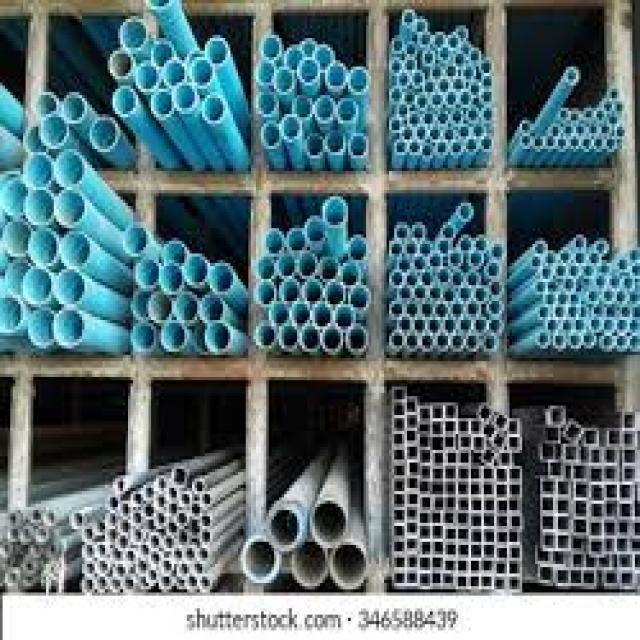pipe: (332, 542, 366, 587), (294, 540, 326, 586), (268, 506, 300, 549), (312, 499, 344, 541), (245, 539, 277, 580), (55, 269, 85, 304), (55, 308, 82, 345), (55, 152, 83, 187), (41, 113, 69, 147), (30, 228, 57, 262), (90, 118, 117, 150), (26, 190, 53, 222), (58, 190, 84, 223), (4, 221, 29, 254), (25, 155, 52, 185), (25, 268, 50, 300), (3, 180, 27, 213), (205, 323, 230, 354), (30, 312, 53, 345), (6, 258, 29, 291), (161, 322, 187, 351), (63, 234, 87, 265), (199, 293, 224, 322), (130, 323, 156, 350), (121, 22, 146, 50), (31, 90, 56, 118), (25, 123, 48, 152), (136, 256, 159, 285), (0, 295, 21, 326), (203, 95, 225, 124), (211, 263, 233, 291), (149, 294, 171, 322), (163, 239, 186, 265), (151, 40, 172, 67), (192, 59, 213, 86), (64, 92, 85, 119), (326, 198, 347, 225), (136, 63, 157, 89), (175, 295, 196, 321), (114, 89, 134, 116), (186, 256, 206, 283), (112, 51, 133, 76), (175, 86, 197, 109), (163, 62, 184, 86), (256, 280, 277, 304), (133, 290, 149, 319), (208, 37, 229, 59), (281, 115, 301, 138), (310, 304, 330, 327), (163, 265, 180, 292), (258, 90, 277, 114), (350, 69, 369, 93), (327, 62, 345, 87), (299, 59, 318, 82), (290, 302, 309, 325), (154, 89, 170, 116), (128, 227, 146, 251), (300, 326, 318, 350), (323, 327, 342, 349), (275, 69, 294, 90), (281, 325, 299, 347), (347, 329, 365, 351), (351, 287, 369, 309), (326, 282, 344, 304), (256, 59, 273, 82), (336, 101, 356, 120), (258, 324, 277, 344), (341, 262, 360, 282), (314, 96, 332, 117), (304, 280, 322, 301), (281, 280, 299, 301), (263, 123, 280, 145), (266, 229, 282, 251), (564, 420, 580, 442), (336, 307, 353, 327), (307, 133, 323, 154), (315, 46, 330, 68), (350, 134, 367, 153), (320, 258, 337, 277), (299, 255, 316, 274), (307, 218, 323, 238), (477, 403, 494, 421), (264, 36, 280, 55), (286, 48, 302, 67), (271, 302, 287, 321), (351, 238, 365, 259), (280, 254, 294, 275), (289, 231, 305, 249), (294, 97, 309, 116), (259, 256, 274, 275), (329, 132, 343, 151), (482, 446, 496, 464), (174, 466, 188, 484), (71, 512, 86, 528), (395, 223, 409, 239), (389, 117, 402, 134), (412, 224, 425, 241), (108, 495, 120, 513), (389, 302, 403, 317), (392, 38, 405, 54), (390, 241, 403, 257), (428, 285, 441, 301), (405, 302, 418, 318), (493, 413, 506, 429), (493, 432, 506, 448), (550, 408, 562, 425), (435, 302, 447, 319), (451, 302, 463, 319), (406, 333, 418, 350), (443, 224, 456, 239), (398, 287, 411, 302), (458, 286, 471, 301), (465, 302, 478, 317), (444, 318, 457, 333), (474, 318, 487, 333), (436, 333, 449, 348), (483, 422, 496, 437), (490, 244, 502, 260), (420, 302, 432, 318), (421, 334, 433, 350), (569, 332, 581, 348), (583, 331, 595, 347), (303, 40, 314, 57), (431, 66, 442, 83), (391, 333, 402, 350), (433, 33, 446, 47), (390, 272, 403, 286), (445, 65, 457, 80), (460, 204, 472, 219), (460, 238, 472, 253), (476, 237, 488, 252), (438, 269, 450, 284), (466, 271, 478, 286), (459, 318, 471, 333), (484, 334, 496, 349), (538, 331, 549, 347), (487, 263, 500, 276), (394, 556, 406, 570), (437, 110, 449, 124), (450, 252, 462, 266), (471, 252, 483, 266), (414, 317, 426, 331), (452, 335, 464, 349), (482, 107, 493, 122), (443, 127, 454, 142), (520, 135, 531, 150), (398, 258, 409, 273), (414, 285, 425, 300), (474, 287, 485, 302), (489, 318, 500, 333), (574, 236, 585, 251), (610, 273, 621, 288), (84, 577, 95, 592), (116, 477, 126, 493), (470, 546, 483, 558), (605, 574, 618, 586), (606, 503, 618, 516), (566, 68, 578, 81), (406, 242, 418, 255), (438, 240, 450, 253), (595, 241, 607, 254), (601, 335, 613, 348), (199, 576, 211, 589), (37, 527, 49, 540), (406, 271, 417, 285), (421, 271, 432, 285), (490, 282, 501, 296), (443, 288, 454, 302), (428, 318, 439, 332), (535, 241, 546, 255), (589, 251, 600, 265), (568, 264, 579, 278), (617, 335, 628, 349), (132, 528, 143, 542), (48, 541, 59, 555), (413, 72, 423, 87), (452, 141, 462, 156), (628, 248, 638, 263), (554, 334, 564, 349), (121, 503, 131, 518), (393, 540, 405, 552), (444, 408, 456, 420), (444, 558, 456, 570), (496, 516, 508, 528), (604, 450, 616, 462), (577, 484, 589, 496), (574, 504, 586, 516), (573, 520, 585, 532), (619, 554, 631, 566), (432, 480, 443, 493), (547, 429, 558, 442), (399, 74, 410, 87), (462, 67, 473, 80), (409, 113, 420, 126), (429, 128, 440, 141), (413, 257, 424, 270), (430, 255, 441, 268), (467, 335, 478, 348), (598, 263, 609, 276), (590, 318, 601, 331), (194, 479, 205, 492), (180, 561, 191, 574), (32, 544, 43, 557), (544, 444, 554, 458), (590, 448, 600, 462), (542, 515, 552, 529), (459, 125, 469, 139), (453, 272, 463, 286), (400, 318, 410, 332), (202, 514, 212, 528), (10, 527, 20, 541), (556, 263, 565, 278), (393, 479, 404, 491), (445, 544, 456, 556), (508, 502, 519, 514), (609, 434, 620, 446), (606, 466, 617, 478), (622, 576, 633, 588), (592, 524, 603, 536), (438, 50, 449, 62), (417, 95, 428, 107), (420, 243, 431, 255), (117, 536, 128, 548), (111, 578, 122, 590), (23, 574, 34, 586), (394, 419, 404, 432), (446, 481, 456, 494), (470, 498, 480, 511), (502, 453, 512, 466), (542, 498, 552, 511), (604, 537, 614, 550), (592, 541, 602, 554), (620, 504, 630, 517), (404, 11, 414, 24), (422, 33, 432, 46), (448, 35, 458, 48), (457, 27, 467, 40), (454, 53, 464, 66), (483, 61, 493, 74), (452, 110, 462, 123), (468, 109, 478, 122), (482, 137, 492, 150), (545, 252, 555, 265), (532, 256, 542, 269), (618, 258, 628, 271), (603, 289, 613, 302), (538, 306, 548, 319), (120, 520, 130, 533), (177, 513, 187, 526), (2, 542, 12, 555), (433, 408, 442, 422), (415, 54, 424, 68), (470, 51, 479, 65), (535, 136, 544, 150), (133, 492, 142, 506), (556, 572, 567, 583), (409, 33, 420, 44), (420, 434, 430, 446), (420, 524, 430, 536), (434, 453, 444, 465), (432, 437, 442, 449), (444, 422, 454, 434), (474, 439, 484, 451), (456, 575, 466, 587), (496, 562, 506, 574), (484, 481, 494, 493), (496, 546, 506, 558), (623, 434, 633, 446), (574, 468, 586, 478), (592, 486, 602, 498), (606, 486, 616, 498), (619, 488, 631, 498), (559, 535, 569, 547), (575, 538, 585, 550), (592, 504, 602, 516), (630, 538, 640, 550), (482, 91, 492, 103), (460, 92, 470, 104), (615, 126, 625, 138), (479, 274, 489, 286), (541, 267, 551, 279), (582, 265, 592, 277), (588, 290, 598, 302), (616, 318, 626, 330), (201, 495, 211, 507), (84, 561, 94, 573), (194, 562, 204, 574), (32, 512, 42, 524), (484, 498, 493, 511), (425, 81, 434, 94), (392, 89, 401, 102), (589, 122, 598, 135), (554, 305, 563, 318), (630, 335, 639, 348), (158, 478, 167, 491), (156, 513, 165, 526), (85, 543, 94, 556), (459, 498, 467, 512), (510, 484, 518, 498), (393, 437, 403, 448), (420, 410, 430, 421), (431, 527, 442, 537), (432, 468, 443, 478), (446, 436, 456, 447), (446, 498, 456, 509), (471, 515, 481, 526), (445, 529, 456, 539), (458, 530, 469, 540), (481, 578, 492, 588), (496, 578, 506, 589), (496, 502, 506, 513), (510, 518, 521, 528), (564, 448, 575, 458), (585, 433, 596, 443), (549, 463, 560, 473), (624, 468, 634, 479), (540, 567, 550, 578), (558, 138, 568, 149), (492, 301, 502, 312), (575, 253, 585, 264), (596, 277, 606, 288), (557, 293, 567, 304), (547, 319, 557, 330), (139, 577, 149, 588), (8, 514, 18, 525), (421, 497, 430, 509), (408, 522, 417, 534), (433, 540, 442, 552), (459, 544, 468, 556), (484, 529, 493, 541), (544, 534, 553, 546), (554, 550, 563, 562), (558, 500, 567, 512), (391, 61, 400, 73), (483, 76, 492, 88), (410, 141, 419, 153), (583, 137, 592, 149), (609, 112, 618, 124), (609, 88, 618, 100), (546, 294, 555, 306), (604, 319, 613, 331), (181, 492, 190, 504), (156, 494, 165, 506), (178, 530, 187, 542), (162, 575, 171, 587), (200, 548, 209, 560), (9, 570, 18, 582), (191, 521, 198, 536), (407, 398, 415, 411), (574, 571, 582, 584), (601, 122, 609, 135), (481, 304, 489, 317), (617, 289, 625, 302), (606, 305, 614, 318), (145, 486, 153, 499), (169, 502, 177, 515), (23, 528, 31, 541), (394, 388, 404, 398), (407, 448, 417, 458), (408, 463, 418, 473), (394, 574, 404, 584), (421, 576, 431, 586), (420, 560, 430, 570), (432, 423, 442, 433), (460, 422, 470, 432), (458, 468, 468, 478), (444, 514, 454, 524), (470, 532, 480, 542), (509, 438, 519, 448), (498, 470, 508, 480), (510, 470, 520, 480), (496, 486, 506, 496), (623, 418, 633, 428), (624, 452, 634, 462), (558, 484, 568, 494), (538, 552, 548, 562), (574, 554, 584, 564), (584, 572, 594, 582), (437, 143, 447, 153), (509, 578, 518, 589), (496, 532, 507, 541), (509, 561, 518, 572), (617, 540, 626, 551), (417, 21, 426, 32), (470, 83, 479, 94), (453, 80, 462, 91), (405, 92, 414, 103), (396, 143, 405, 154), (423, 144, 432, 155), (467, 140, 476, 151), (551, 125, 560, 136), (571, 137, 580, 148), (564, 124, 573, 135), (606, 139, 615, 150), (629, 292, 638, 303), (567, 306, 576, 317), (562, 320, 571, 331), (143, 505, 152, 516), (107, 529, 116, 540), (150, 535, 159, 546), (202, 529, 211, 540), (394, 404, 402, 416), (408, 416, 416, 428), (420, 449, 428, 461), (408, 556, 416, 568), (422, 542, 430, 554), (472, 422, 484, 430), (446, 574, 454, 586), (634, 521, 640, 537), (425, 53, 433, 65), (547, 138, 555, 150), (604, 100, 612, 112), (565, 279, 573, 291), (632, 306, 640, 318), (100, 576, 108, 588), (46, 512, 54, 524), (435, 497, 442, 510), (408, 508, 417, 518), (445, 468, 455, 477), (472, 483, 481, 493), (458, 562, 468, 571), (483, 514, 492, 524), (511, 547, 520, 557), (590, 470, 599, 480), (605, 524, 614, 534), (433, 94, 442, 104), (447, 93, 456, 103), (474, 125, 483, 135), (577, 124, 586, 134), (621, 307, 630, 317), (629, 320, 638, 330), (107, 516, 116, 526), (145, 520, 154, 530), (113, 549, 122, 559), (151, 552, 160, 562), (150, 584, 160, 593), (396, 510, 404, 521), (406, 431, 414, 442), (422, 466, 430, 477), (409, 478, 417, 489), (470, 577, 478, 588), (510, 531, 518, 542), (580, 448, 588, 459), (542, 482, 553, 490), (406, 44, 414, 55), (399, 105, 407, 116), (418, 127, 426, 138), (584, 110, 592, 121), (615, 101, 623, 112), (562, 249, 570, 260), (537, 281, 545, 292), (548, 280, 556, 291), (579, 307, 587, 318), (169, 488, 177, 499), (141, 544, 149, 555), (186, 547, 194, 558), (139, 560, 147, 571), (149, 569, 157, 580), (25, 560, 33, 571), (461, 438, 468, 450), (471, 560, 478, 572), (603, 554, 610, 566), (475, 69, 482, 81), (576, 279, 583, 291), (166, 536, 173, 548), (433, 574, 442, 583), (396, 494, 404, 504), (407, 496, 417, 504), (396, 526, 406, 534), (407, 574, 417, 582), (432, 558, 442, 566), (460, 453, 468, 463), (471, 453, 479, 463), (472, 470, 480, 480), (485, 546, 493, 556), (508, 422, 516, 432), (560, 519, 568, 529), (406, 61, 414, 71), (462, 44, 470, 54), (440, 81, 448, 91), (425, 113, 433, 123), (570, 111, 578, 121), (596, 109, 604, 119), (593, 306, 601, 316), (632, 265, 640, 275), (192, 505, 200, 515), (98, 522, 106, 532), (85, 529, 93, 539), (176, 548, 184, 558), (421, 481, 428, 492), (595, 138, 602, 149), (118, 563, 125, 574), (396, 466, 404, 475), (432, 513, 440, 522), (458, 513, 466, 522), (473, 98, 481, 107), (403, 130, 411, 139), (100, 560, 108, 569), (164, 561, 172, 570), (177, 577, 185, 586), (394, 452, 404, 459), (447, 452, 454, 462), (619, 524, 626, 534), (522, 122, 529, 132), (571, 294, 578, 304), (170, 585, 180, 592), (422, 424, 430, 432), (408, 540, 416, 548), (420, 512, 428, 520), (460, 484, 468, 492), (482, 560, 490, 568), (485, 470, 493, 478), (189, 576, 197, 584), (400, 55, 407, 64), (560, 109, 567, 118), (576, 319, 583, 328), (133, 512, 140, 521), (128, 576, 135, 585), (192, 538, 199, 546), (100, 546, 107, 554), (128, 549, 135, 557), (165, 550, 173, 557), (130, 564, 137, 572), (423, 68, 429, 77), (170, 522, 176, 531), (99, 535, 105, 543), (108, 568, 114, 576), (566, 468, 570, 478), (173, 565, 177, 574), (194, 495, 199, 502), (160, 528, 165, 534)
